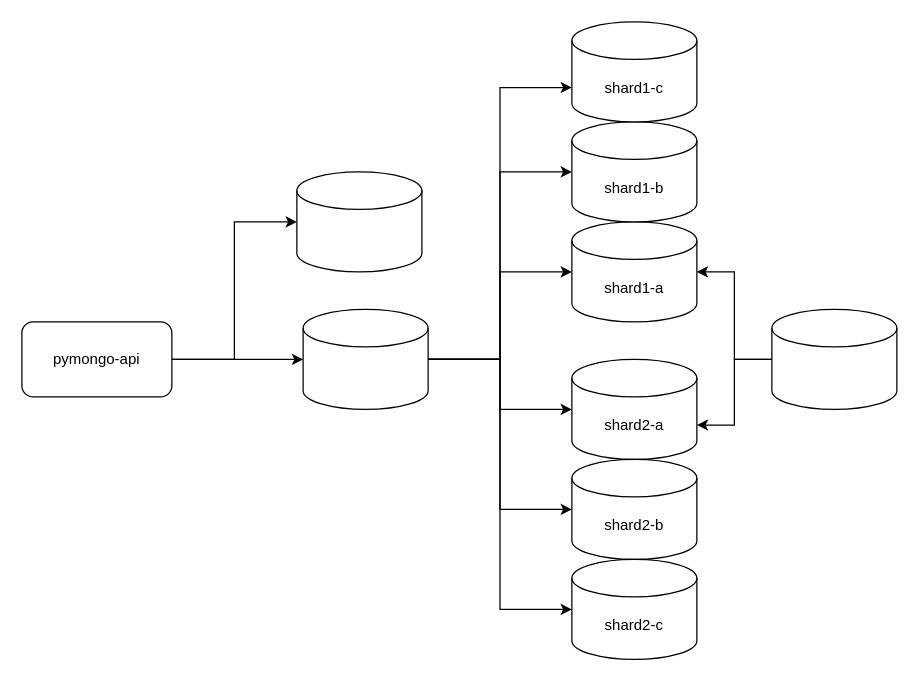
Some shapes in this 919 by 681 pixel diagram are drawn without their labels. Here are the shapes that lost their labels. From the top down, the box of each, then its label:
(296, 171, 422, 272): redis-1
(302, 308, 428, 409): mongos_router
(771, 308, 897, 409): configSrv
